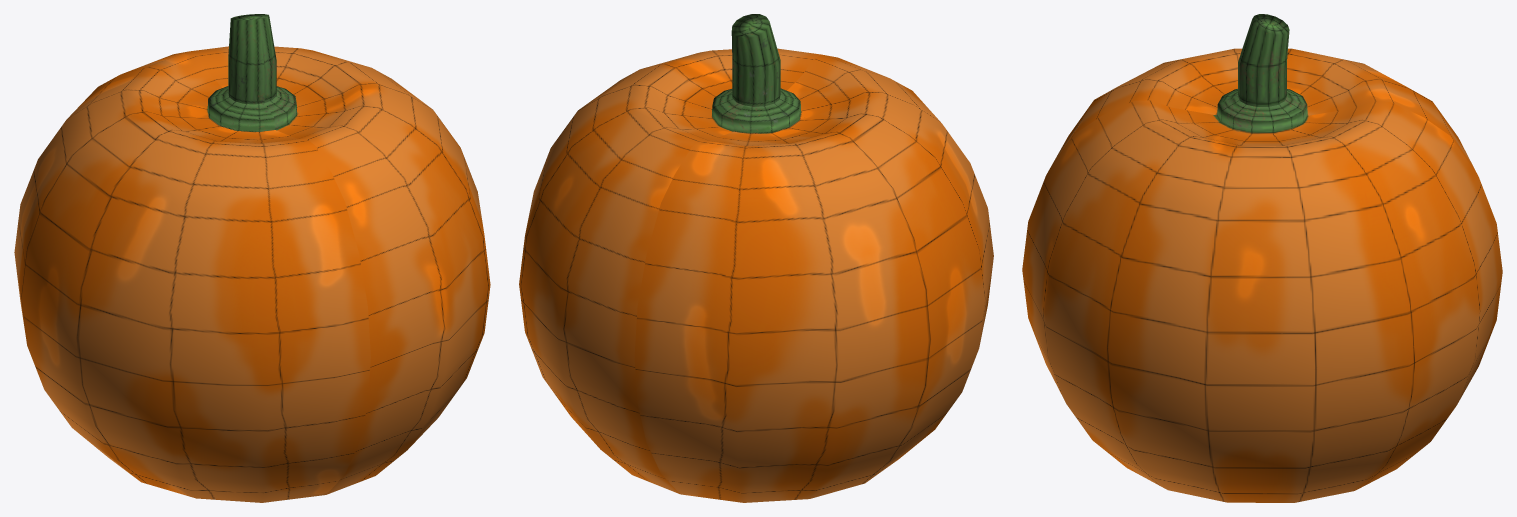
The model's file is SM_Pumpkin1_1.0.fbx.
The picture shows the model from 3 angles, left to right: view 1: azimuth 30°, elevation 25°; view 2: azimuth 150°, elevation 25°; view 3: azimuth 270°, elevation 25°; orthographic projection.
Visible parts, largest first — view 1: Pumpkin_Body; view 2: Pumpkin_Body; view 3: Pumpkin_Body.
Part boxes in pixels (left/top/right/bottom): Pumpkin_Body: left=14, top=14, right=490, bottom=502; Pumpkin_Body: left=519, top=14, right=993, bottom=502; Pumpkin_Body: left=1022, top=14, right=1502, bottom=502.
Bounding box in the file's own units: 7.82 × 7.98 × 8.
